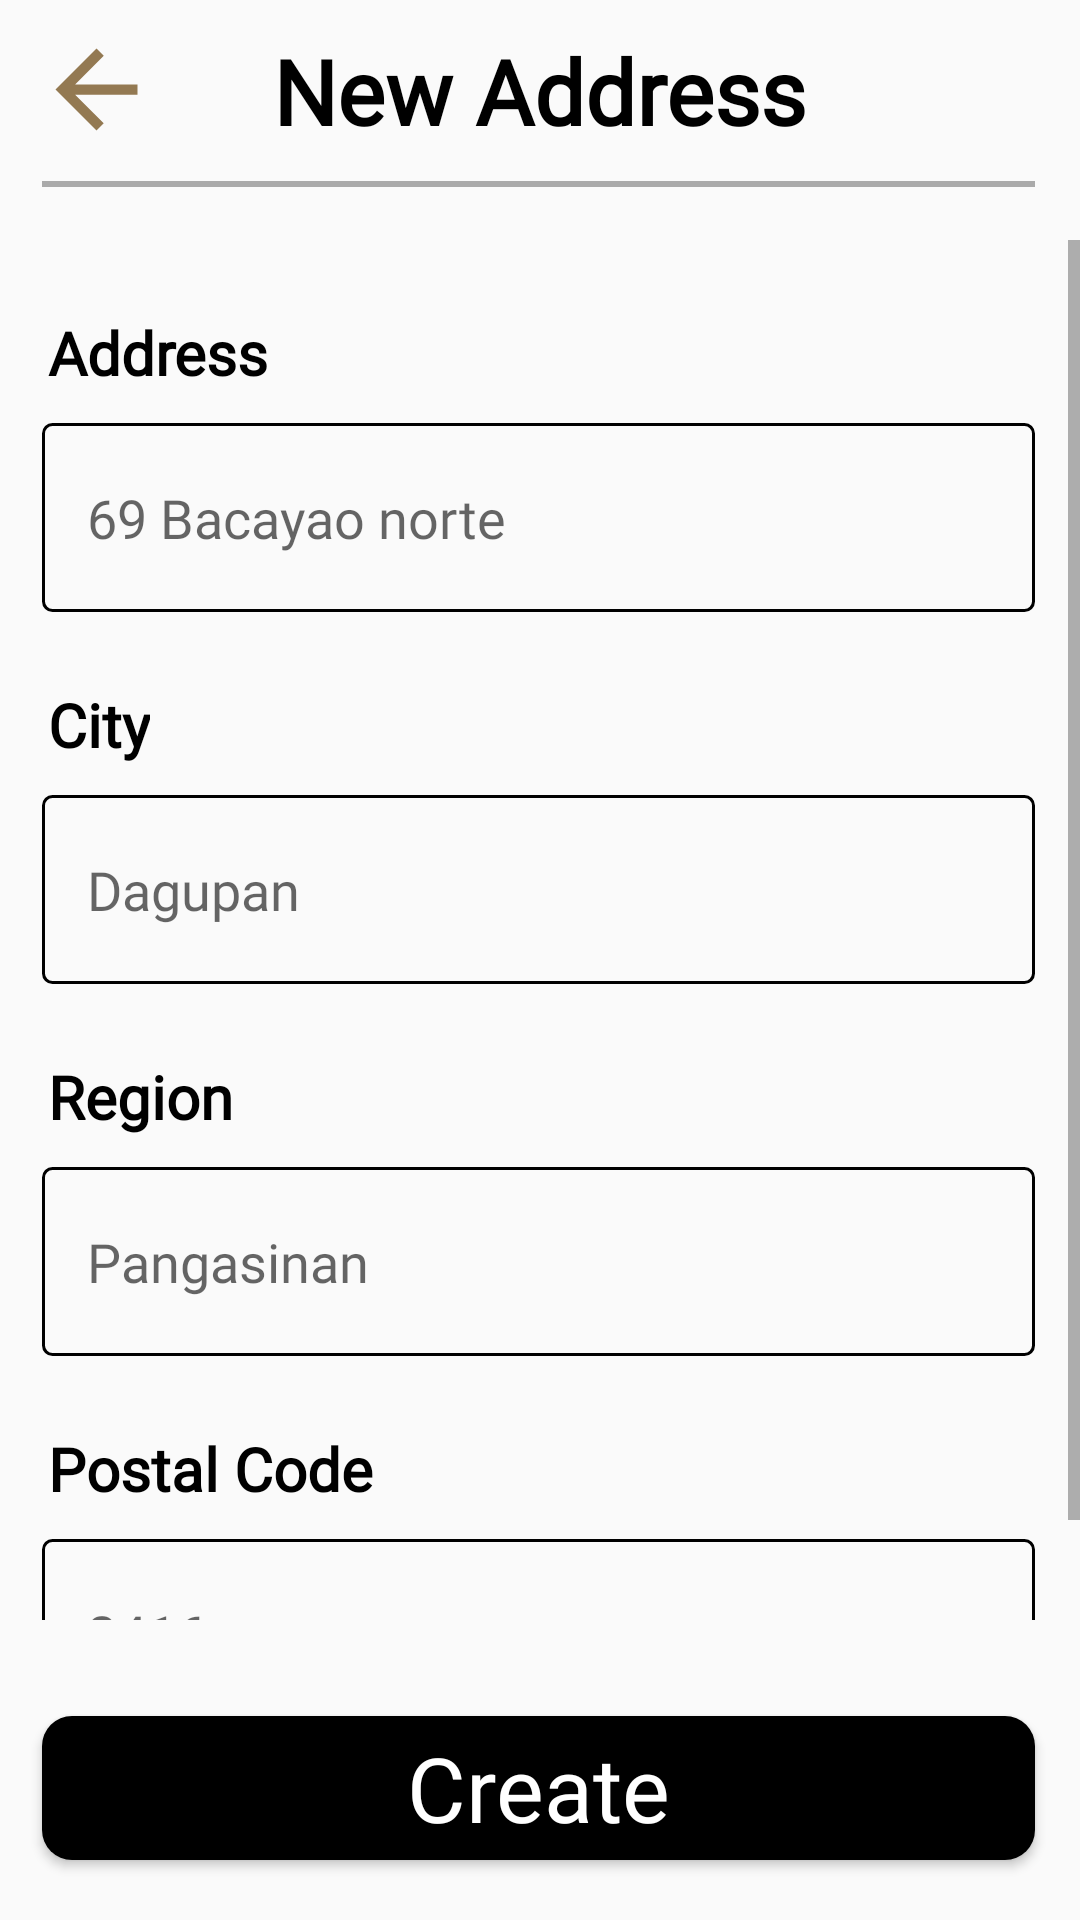

Icon bounding boxes for this 1080px×1920px phone screenshot, format (x1, y1, x2, y2):
back: (55, 48, 138, 131)
